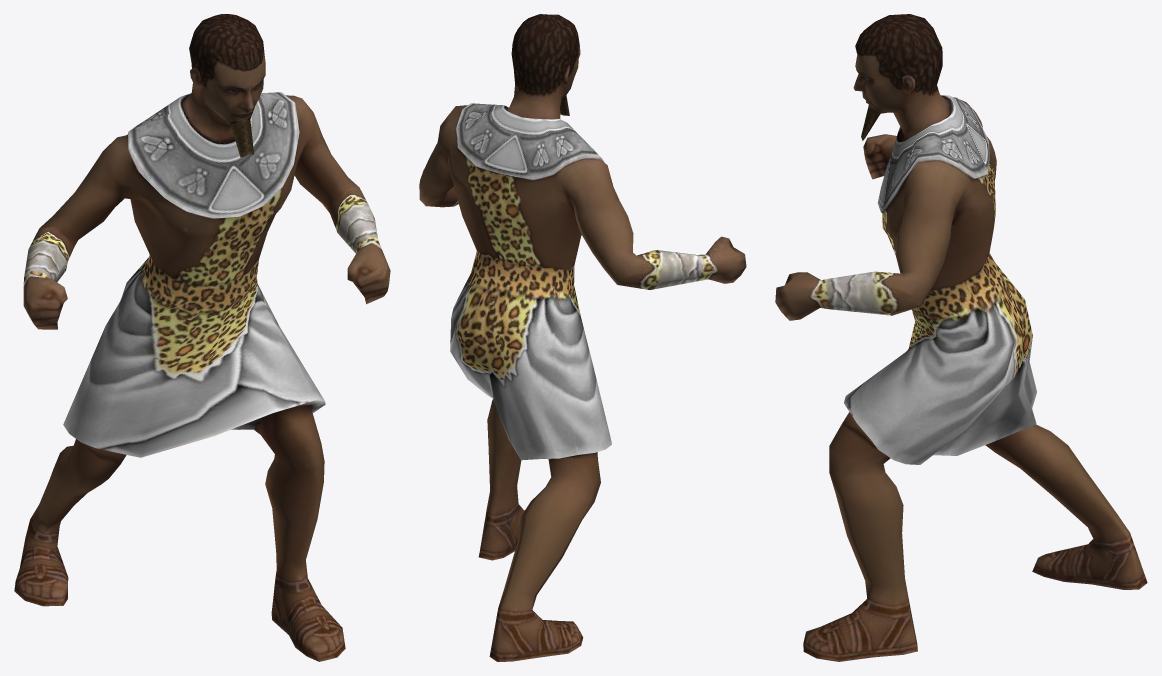
The model's file is body-mediumslingers.glb.
The picture shows the model from 3 angles, left to right: view 1: azimuth 30°, elevation 25°; view 2: azimuth 150°, elevation 25°; view 3: azimuth 270°, elevation 25°; orthographic projection. The views are drawn at different scales.
Bounding box in the file's own units: 1.12 × 1.9 × 1.06.
1 material, 1 textured.
